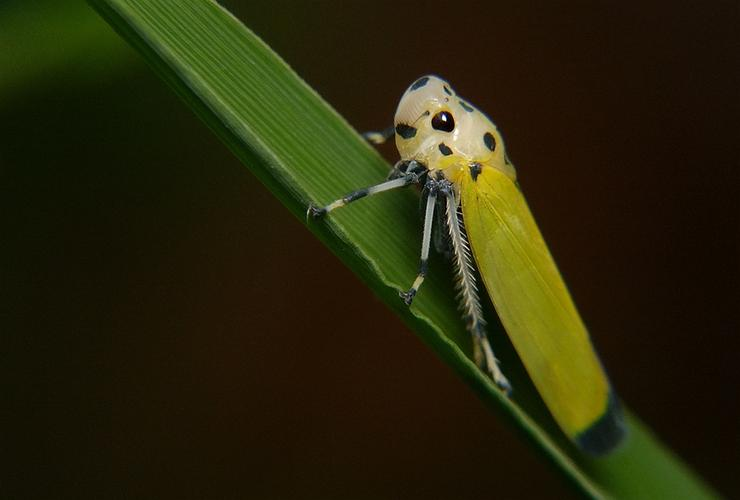Cicadellidae: (303, 73, 628, 456)
